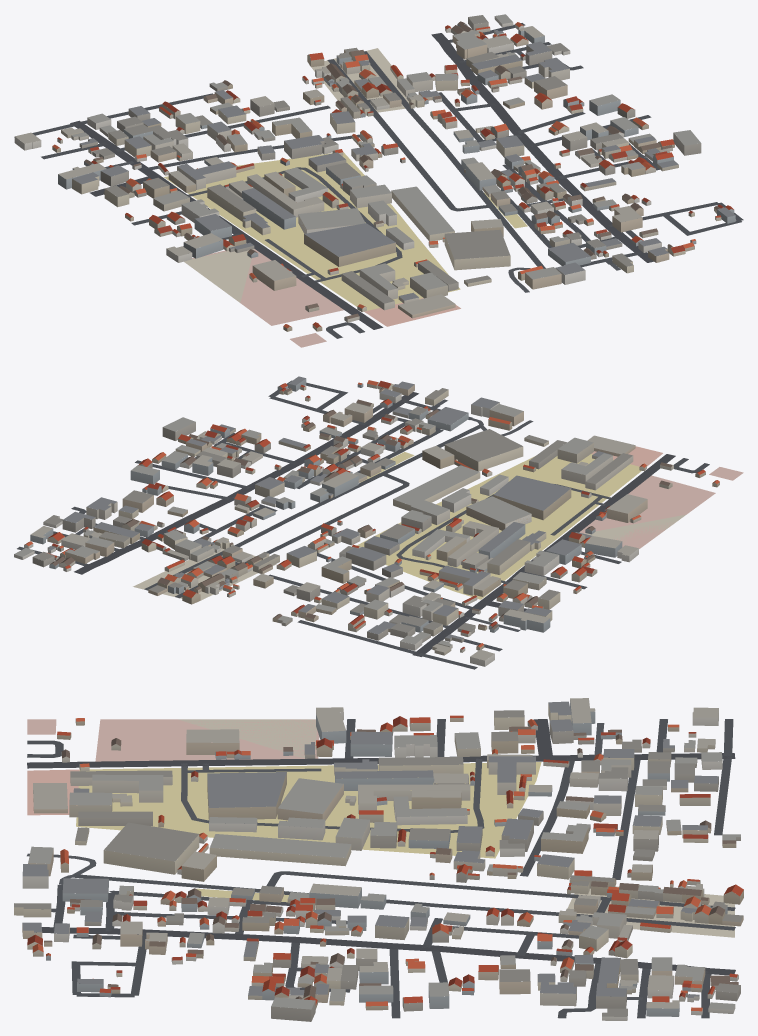
The picture shows the model from 3 angles, top to bottom: view 1: azimuth 30°, elevation 25°; view 2: azimuth 150°, elevation 25°; view 3: azimuth 270°, elevation 25°; orthographic projection. The views are drawn at different scales.
Visible parts, largest first — view 1: buildings_roofs, buildings_walls, roads, landuse; view 2: buildings_roofs, buildings_walls, roads, landuse; view 3: buildings_roofs, buildings_walls, roads, landuse.
Boxes of the visible parts, x1,y1,x2,y2 form: buildings_roofs: (15, 14, 735, 328); buildings_walls: (14, 16, 735, 331); roads: (14, 23, 743, 338); landuse: (164, 48, 527, 347); buildings_roofs: (14, 376, 719, 660); buildings_walls: (14, 379, 719, 666); roads: (17, 380, 709, 669); landuse: (133, 446, 743, 600); buildings_roofs: (14, 698, 743, 1016); buildings_walls: (14, 700, 743, 1021); roads: (27, 719, 735, 1018); landuse: (27, 719, 734, 937).
Bounding box in the file's own units: 521 × 10.31 × 516.
